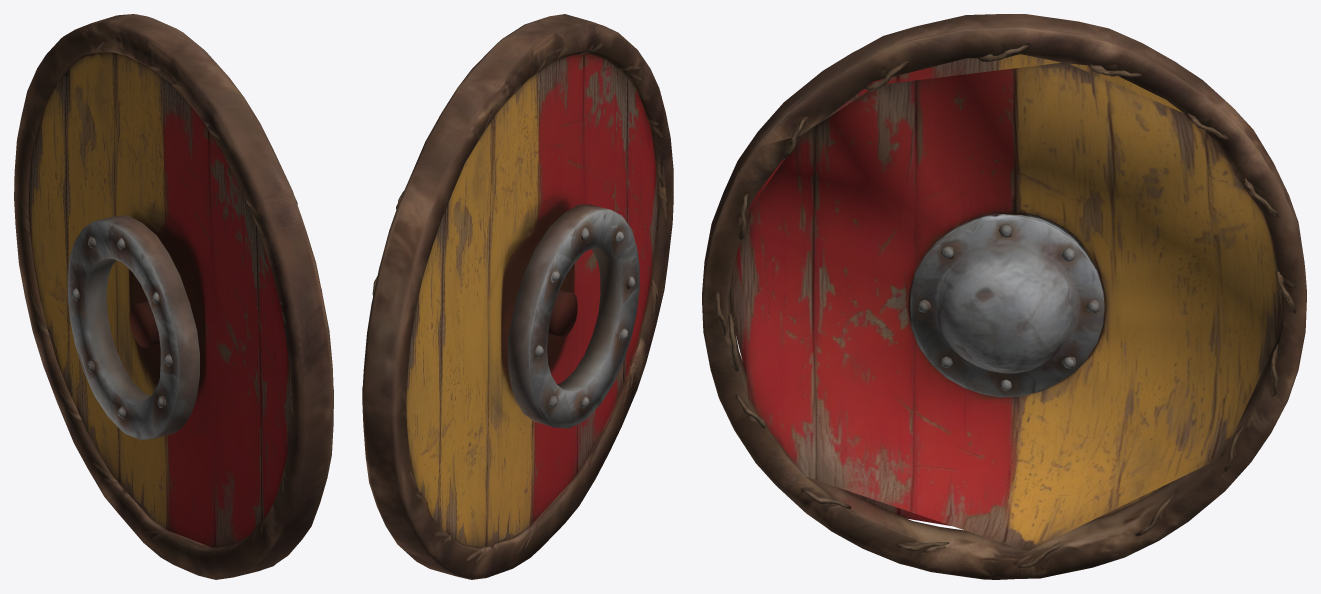
3 views of the same model, side by side, from view 1: azimuth 30°, elevation 25°; view 2: azimuth 150°, elevation 25°; view 3: azimuth 270°, elevation 25° (orthographic). The views are drawn at different scales.
Visible parts, largest first — view 1: tripo_node_be836d11-94b2-49db-b8a3-ae5b2a5e1690; view 2: tripo_node_be836d11-94b2-49db-b8a3-ae5b2a5e1690; view 3: tripo_node_be836d11-94b2-49db-b8a3-ae5b2a5e1690.
Part boxes in pixels (x1,y1,x2,y2): tripo_node_be836d11-94b2-49db-b8a3-ae5b2a5e1690: (14,14,333,579); tripo_node_be836d11-94b2-49db-b8a3-ae5b2a5e1690: (362,14,673,579); tripo_node_be836d11-94b2-49db-b8a3-ae5b2a5e1690: (702,14,1306,579).
Bounding box in the file's own units: 0.2715 × 0.998 × 0.998.
1 material, 1 textured.
